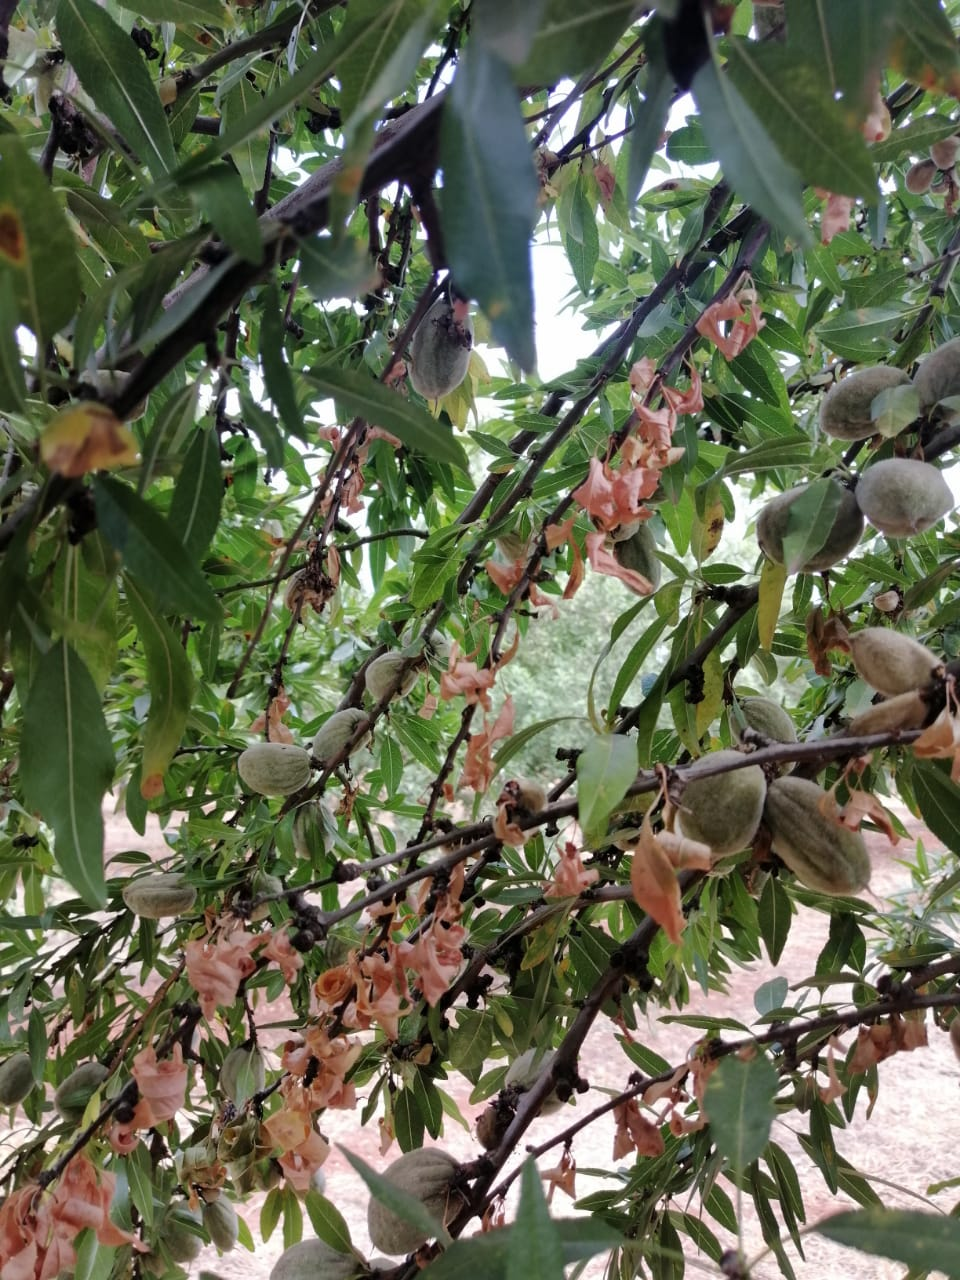chancre fusicocum: (267, 260, 768, 1152), (179, 761, 714, 1023), (1, 1041, 191, 1280)
